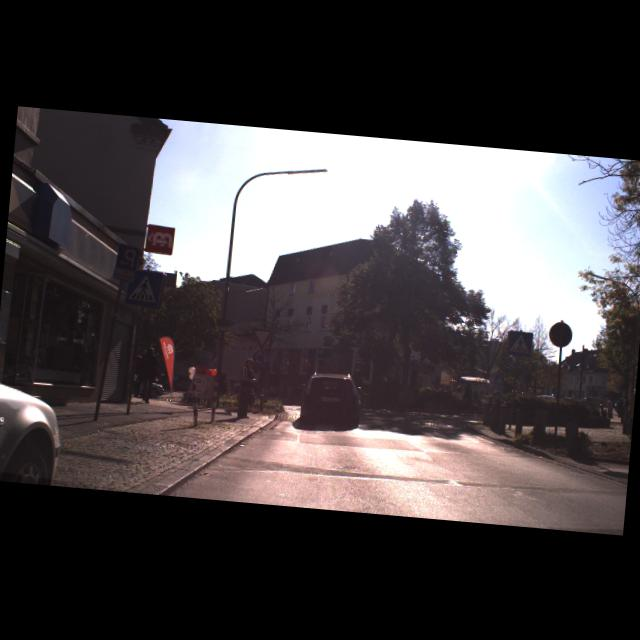mandatory: (252, 348, 269, 366)
other: (251, 327, 272, 347)
